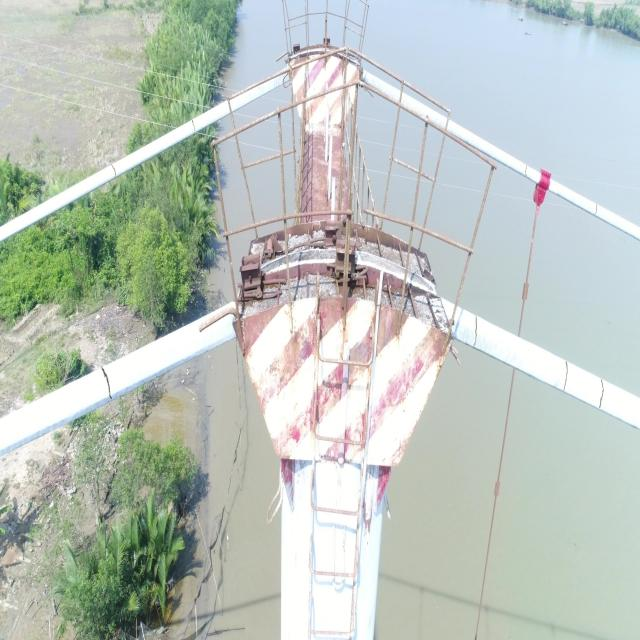crack: (101, 367, 112, 400), (598, 379, 604, 409), (473, 316, 478, 346), (564, 361, 568, 391), (111, 164, 117, 178), (192, 119, 196, 132), (525, 164, 527, 177), (595, 203, 597, 215)
